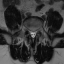CCS_normal: (32, 28, 34, 39)
LFS_normal: (36, 26, 39, 35)
LLS_normal: (34, 28, 36, 39)
RFS_stenosis: (26, 26, 29, 34)
RLS_normal: (29, 27, 32, 38)
